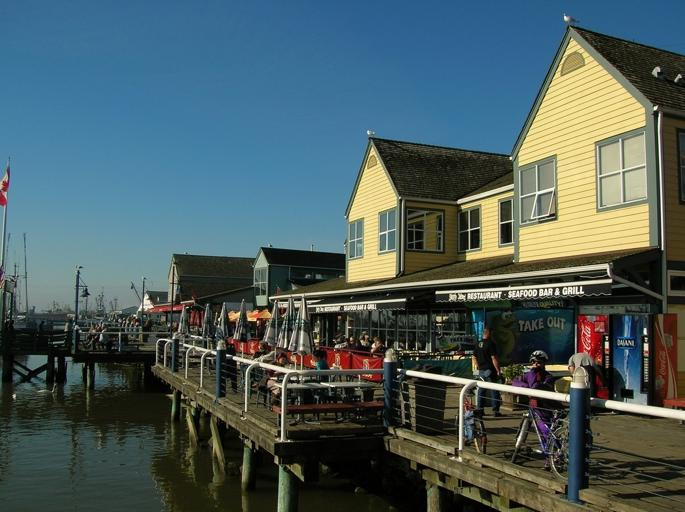non-vehicle: (509, 394, 569, 484), (453, 385, 488, 457)
